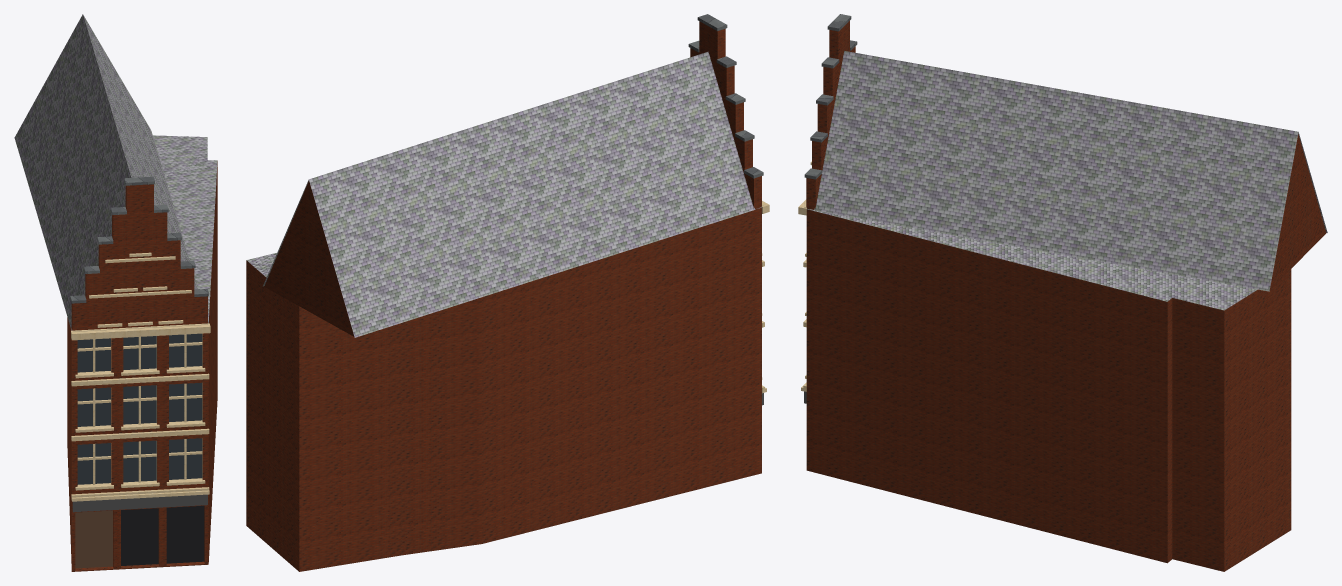
The picture shows the model from 3 angles, left to right: view 1: azimuth 30°, elevation 25°; view 2: azimuth 150°, elevation 25°; view 3: azimuth 270°, elevation 25°; orthographic projection. The views are drawn at different scales.
Visible parts, largest first — view 1: bldg_496929350_landmark; view 2: bldg_496929350_landmark; view 3: bldg_496929350_landmark.
Boxes of the visible parts, bbox=[...] form: bldg_496929350_landmark: bbox=[14, 14, 217, 571]; bldg_496929350_landmark: bbox=[246, 14, 769, 571]; bldg_496929350_landmark: bbox=[798, 14, 1327, 571].
Bounding box in the file's own units: 18.57 × 22.53 × 25.71.
Materials: 8 (4 with a texture image).
